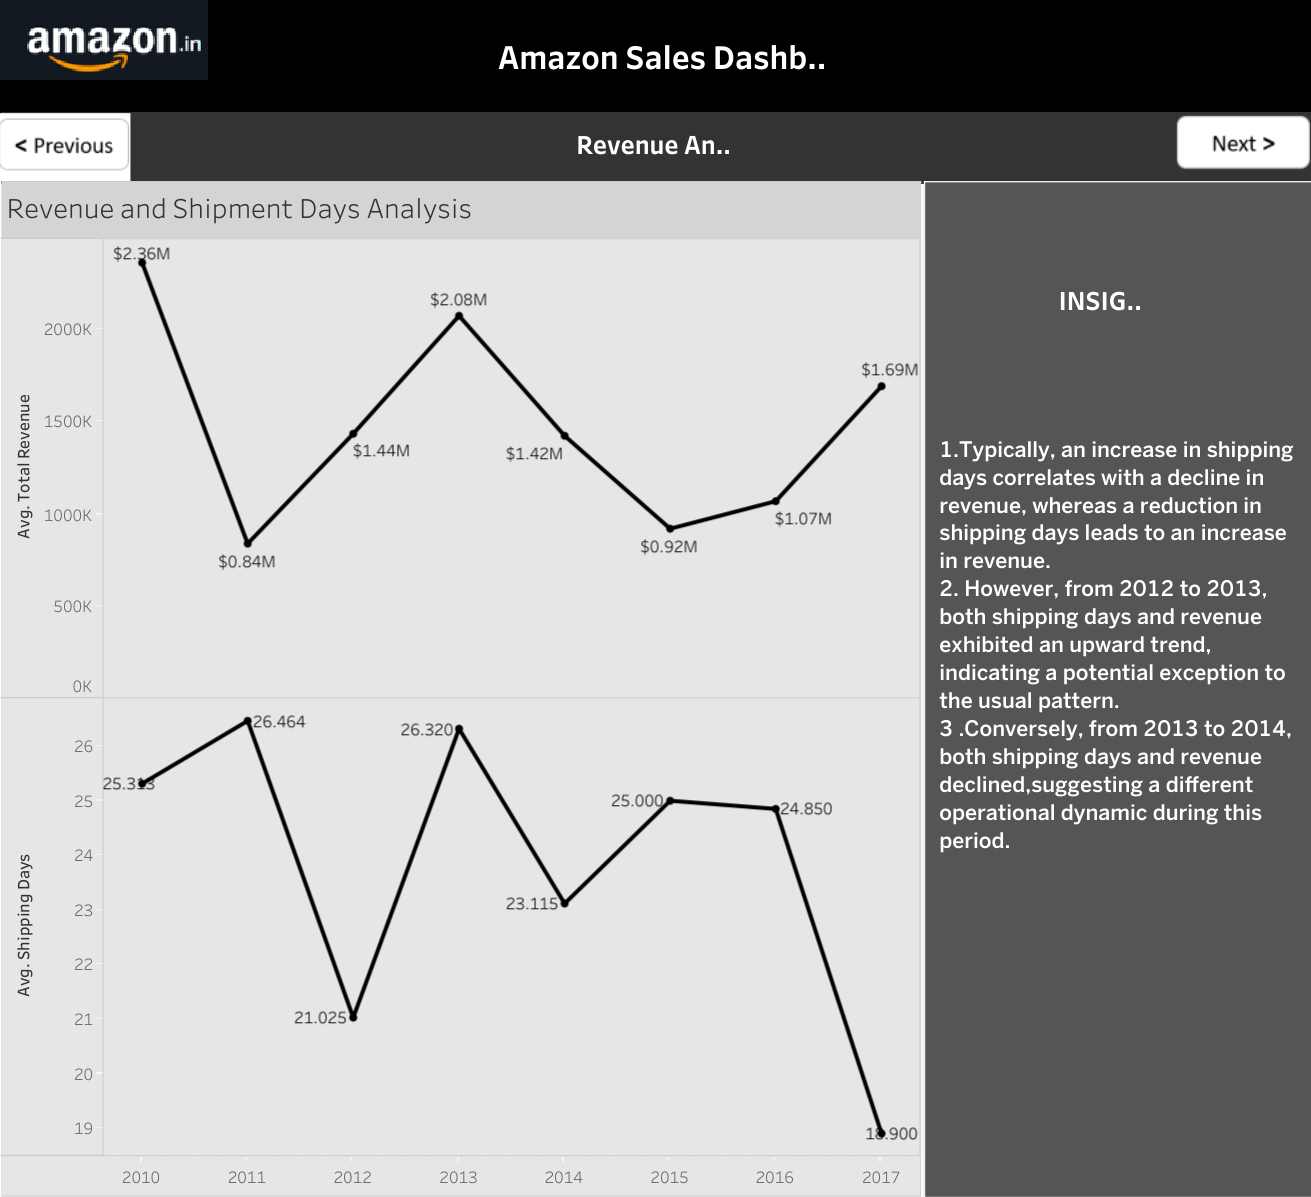

This screenshot's page, from the dashboard's own definition file:
{"tool":"tableau","page":{"name":"Revenue Analysis","canvas":[1000,1000],"units":"permille","ordinal":3},"visuals":[{"type":"text","box":[0,0,1000,1000]},{"type":"image","param":"C:/Users/hp/Downloads/Picture3.png","box":[0,0,158.7,101.1]},{"type":"text","box":[375.2,27.1,258.9,39.5]},{"type":"blank","box":[0.6,93.7,999.4,59.2]},{"type":"dashboard-object","box":[896.7,93.7,100.9,55.5]},{"type":"text","box":[436,99.9,124.2,39.5]},{"type":"worksheet","title":"Revenue and Shipment Days Analysis ","mark":"Automatic","rows":["Total Revenue","Calculation_531987745306324994"],"cols":["Ship Date"],"box":[0.6,151.7,701.3,847.1]},{"type":"text","box":[801.3,230.6,73.7,38.2]},{"type":"text","box":[712.6,282.4,285.6,510.5]}]}

Visuals, with their boxes on the dashboard's canvas, which has no fixed pixel size, in thousandths of its width and height (x1, y1, x2, y2). These are canvas units, not pixel positions in the 1311x1197 screenshot, which may show the page scaled, cropped or inside an application window:
text: <region>0, 0, 1000, 1000</region>
image: <region>0, 0, 159, 101</region>
text: <region>375, 27, 634, 67</region>
blank: <region>1, 94, 1000, 153</region>
dashboard-object: <region>897, 94, 998, 149</region>
text: <region>436, 100, 560, 139</region>
"Revenue and Shipment Days Analysis " worksheet: <region>1, 152, 702, 999</region>
text: <region>801, 231, 875, 269</region>
text: <region>713, 282, 998, 793</region>
